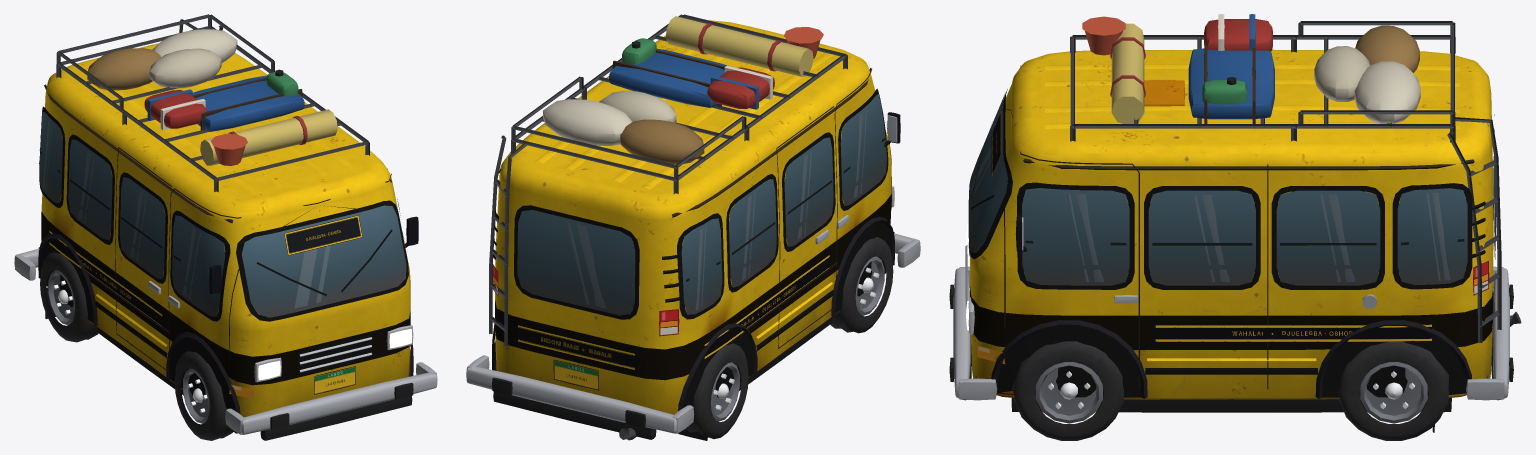
File: veh_danfo.glb
3 renders of one model, left to right at view 1: azimuth 30°, elevation 25°; view 2: azimuth 150°, elevation 25°; view 3: azimuth 270°, elevation 25°, orthographic. The views are drawn at different scales.
Parts seen in each view (by area): view 1: veh_danfo_body, wheel_FR, wheel_RR; view 2: veh_danfo_body, wheel_RR, wheel_FR; view 3: veh_danfo_body, wheel_FL, wheel_RL.
Boxes of the visible parts, x1=… form: veh_danfo_body: x1=14, y1=14, x2=437, y2=440; wheel_FR: x1=174, y1=351, x2=233, y2=440; wheel_RR: x1=40, y1=252, x2=98, y2=342; veh_danfo_body: x1=466, y1=14, x2=920, y2=440; wheel_RR: x1=687, y1=343, x2=748, y2=439; wheel_FR: x1=830, y1=237, x2=893, y2=333; veh_danfo_body: x1=949, y1=14, x2=1521, y2=432; wheel_FL: x1=1012, y1=341, x2=1123, y2=440; wheel_RL: x1=1338, y1=341, x2=1448, y2=440.
Size of the model in its own units: 0.8106 by 1.04 by 1.6.
8 materials, 3 textured.
